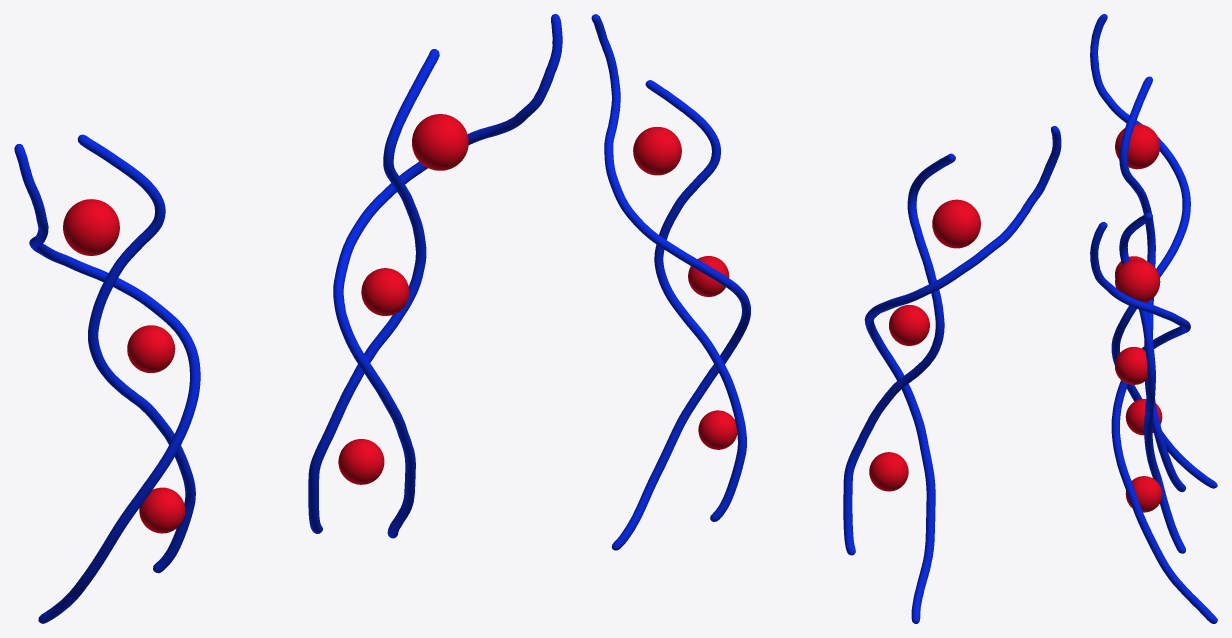
The model's file is dna.glb.
3 views of the same model, side by side, from view 1: azimuth 30°, elevation 25°; view 2: azimuth 150°, elevation 25°; view 3: azimuth 270°, elevation 25° (orthographic). The views are drawn at different scales.
Parts seen in each view (by area): view 1: Retopo_Layer_23.001, Retopo_Layer_26.001; view 2: Retopo_Layer_23.001, Retopo_Layer_26.001; view 3: Retopo_Layer_23.001, Retopo_Layer_26.001.
Part boxes in pixels (left/top/right/bottom): Retopo_Layer_23.001: left=14, top=14, right=562, bottom=623; Retopo_Layer_26.001: left=63, top=114, right=468, bottom=533; Retopo_Layer_23.001: left=591, top=14, right=1061, bottom=623; Retopo_Layer_26.001: left=633, top=127, right=980, bottom=491; Retopo_Layer_23.001: left=1090, top=14, right=1217, bottom=623; Retopo_Layer_26.001: left=1114, top=124, right=1162, bottom=512.
Bounding box in the file's own units: 83.6 × 81.01 × 21.43.
